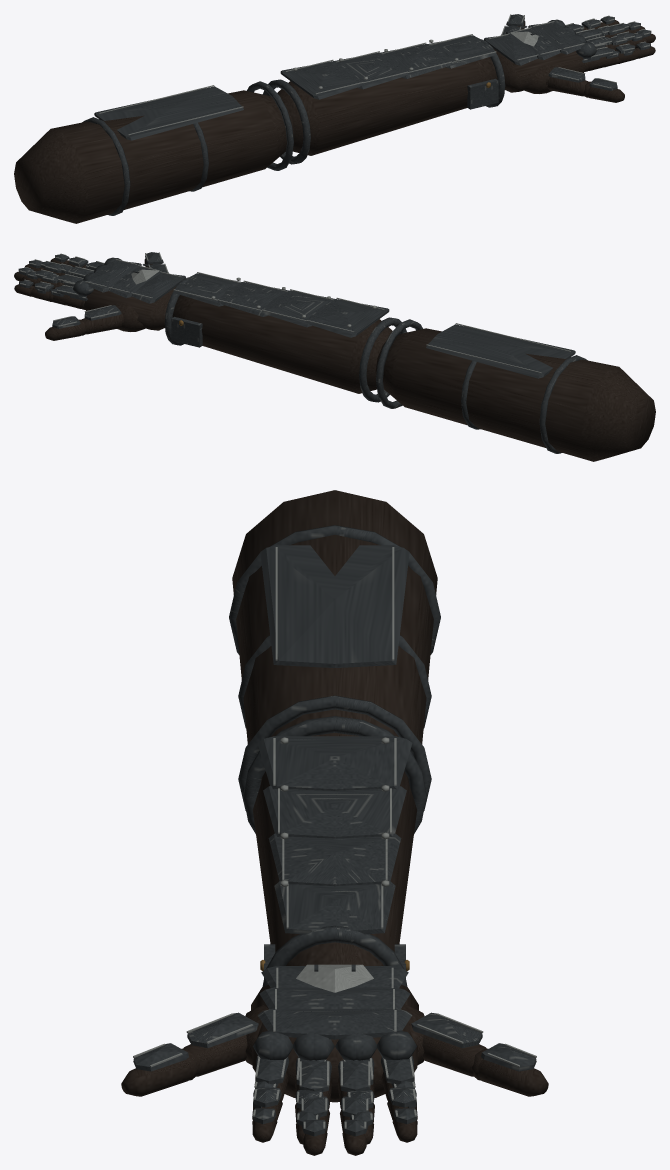
Rendered from wolf-hands.glb.
The picture shows the model from 3 angles, top to bottom: view 1: azimuth 30°, elevation 25°; view 2: azimuth 150°, elevation 25°; view 3: azimuth 270°, elevation 25°; orthographic projection. The views are drawn at different scales.
Visible parts, largest first — view 1: hand_l_upperarm, hand_l_forearm, hand_r_upperarm, hand_r_forearm, hand_l_palm, hand_r_palm, hand_l_thumb_0, hand_l_thumb_1, hand_l_index_0; view 2: hand_l_upperarm, hand_l_forearm, hand_r_upperarm, hand_r_forearm, hand_l_palm, hand_r_palm, hand_r_thumb_0, hand_r_thumb_1, hand_r_index_0; view 3: hand_l_upperarm, hand_l_forearm, hand_l_palm, hand_r_upperarm, hand_r_forearm, hand_r_palm, hand_l_thumb_0, hand_r_thumb_0, hand_l_thumb_1, hand_r_thumb_1, hand_l_middle_0, hand_r_middle_0.
Part boxes in pixels (box(x1,y1,x2,y2)): hand_l_upperarm: box(14, 81, 294, 223); hand_l_forearm: box(262, 34, 505, 164); hand_r_upperarm: box(15, 86, 293, 222); hand_r_forearm: box(278, 34, 498, 155); hand_l_palm: box(484, 19, 592, 93); hand_r_palm: box(484, 21, 596, 91); hand_l_thumb_0: box(546, 67, 588, 96); hand_l_thumb_1: box(584, 78, 624, 102); hand_l_index_0: box(583, 47, 616, 71); hand_l_upperarm: box(375, 319, 655, 461); hand_l_forearm: box(164, 272, 407, 402); hand_r_upperarm: box(376, 324, 653, 459); hand_r_forearm: box(171, 272, 390, 393); hand_l_palm: box(73, 259, 185, 330); hand_r_palm: box(77, 257, 183, 331); hand_r_thumb_0: box(81, 305, 123, 334); hand_r_thumb_1: box(45, 316, 85, 340); hand_r_index_0: box(53, 285, 86, 309); hand_l_upperarm: box(229, 490, 440, 811); hand_l_forearm: box(243, 716, 426, 986); hand_l_palm: box(245, 964, 418, 1102); hand_r_upperarm: box(232, 491, 436, 778); hand_r_forearm: box(253, 736, 415, 969); hand_r_palm: box(251, 964, 424, 1101); hand_l_thumb_0: box(183, 1012, 258, 1076); hand_r_thumb_0: box(411, 1012, 486, 1076); hand_l_thumb_1: box(121, 1043, 198, 1096); hand_r_thumb_1: box(471, 1043, 548, 1096); hand_l_middle_0: box(299, 1059, 332, 1109); hand_r_middle_0: box(337, 1059, 370, 1109).
Size of the model in its own units: 0.767 by 0.1076 by 0.2286.
1 material, 1 textured.
